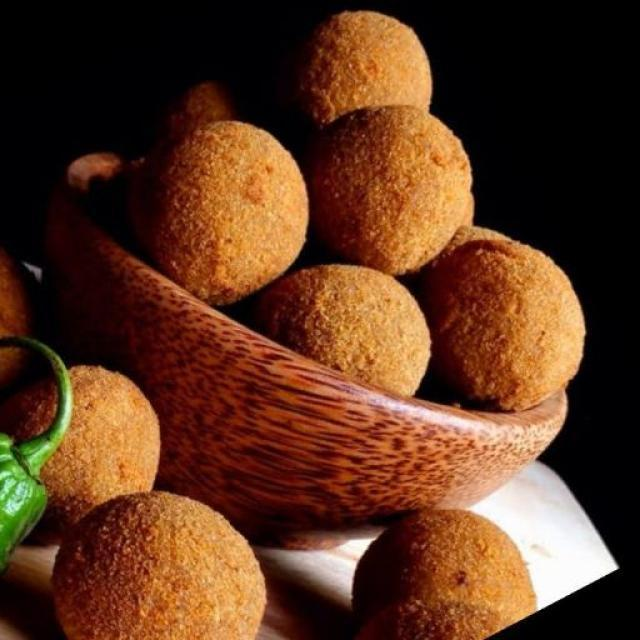Cutlet: (437, 240, 598, 409), (71, 495, 253, 640), (154, 130, 314, 286), (327, 102, 473, 260), (388, 493, 514, 640), (279, 264, 419, 392)
